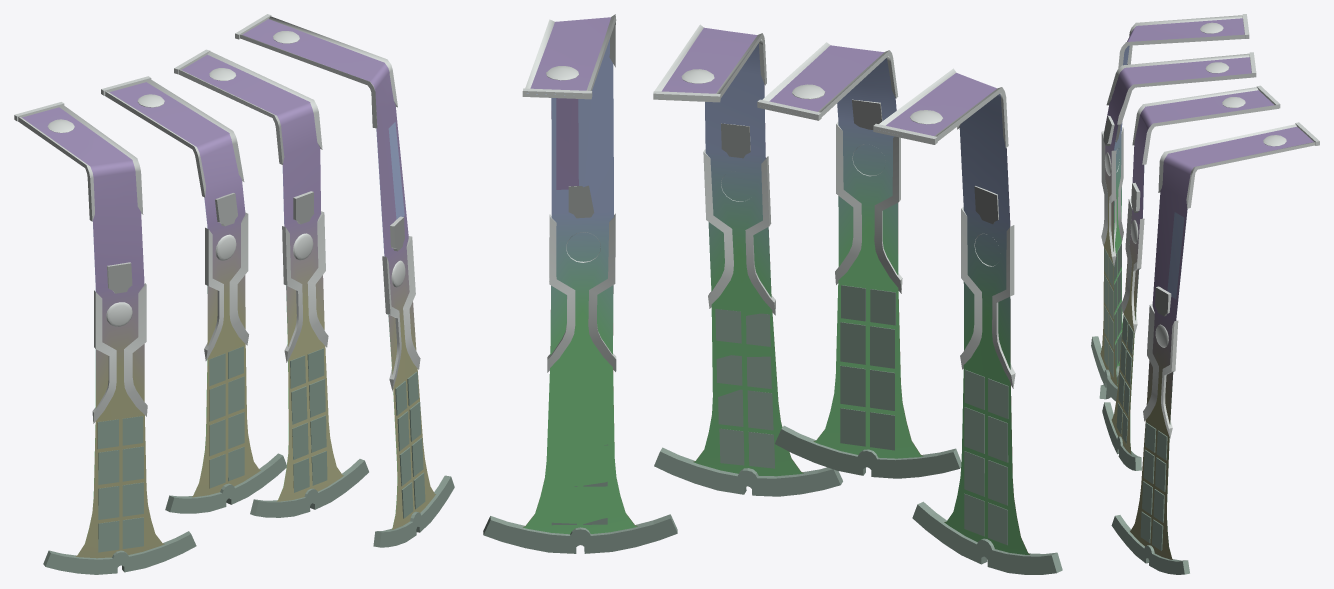
The picture shows the model from 3 angles, left to right: view 1: azimuth 30°, elevation 25°; view 2: azimuth 150°, elevation 25°; view 3: azimuth 270°, elevation 25°; orthographic projection. The views are drawn at different scales.
Parts seen in each view (by area): view 1: G:\FFXIV-MapTools\exports\n4f1\bg\ex3\01_nvt_n4\fld\n4f1\bgp (×6); view 2: G:\FFXIV-MapTools\exports\n4f1\bg\ex3\01_nvt_n4\fld\n4f1\bgp (×5); view 3: G:\FFXIV-MapTools\exports\n4f1\bg\ex3\01_nvt_n4\fld\n4f1\bgp (×7).
Part boxes in pixels (bbox=[...]): G:\FFXIV-MapTools\exports\n4f1\bg\ex3\01_nvt_n4\fld\n4f1\bgp (×6): bbox=[14, 14, 454, 574]; G:\FFXIV-MapTools\exports\n4f1\bg\ex3\01_nvt_n4\fld\n4f1\bgp (×5): bbox=[483, 14, 1062, 574]; G:\FFXIV-MapTools\exports\n4f1\bg\ex3\01_nvt_n4\fld\n4f1\bgp (×7): bbox=[1091, 14, 1319, 574].
Size of the model in its own units: 6.73 by 6.75 by 3.46.
